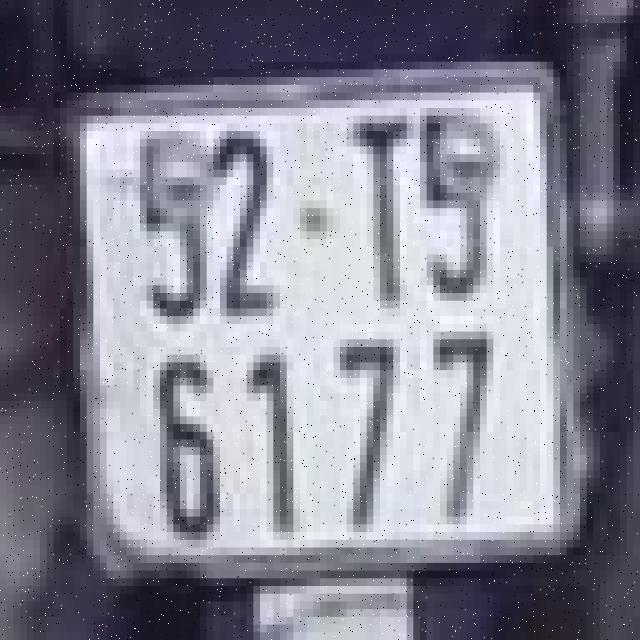1: (243, 347, 310, 555)
2: (210, 120, 290, 320)
5: (413, 96, 507, 304), (130, 124, 210, 332)
6: (144, 336, 224, 552)
7: (420, 324, 500, 524), (330, 328, 403, 536)
T: (343, 93, 417, 316)
